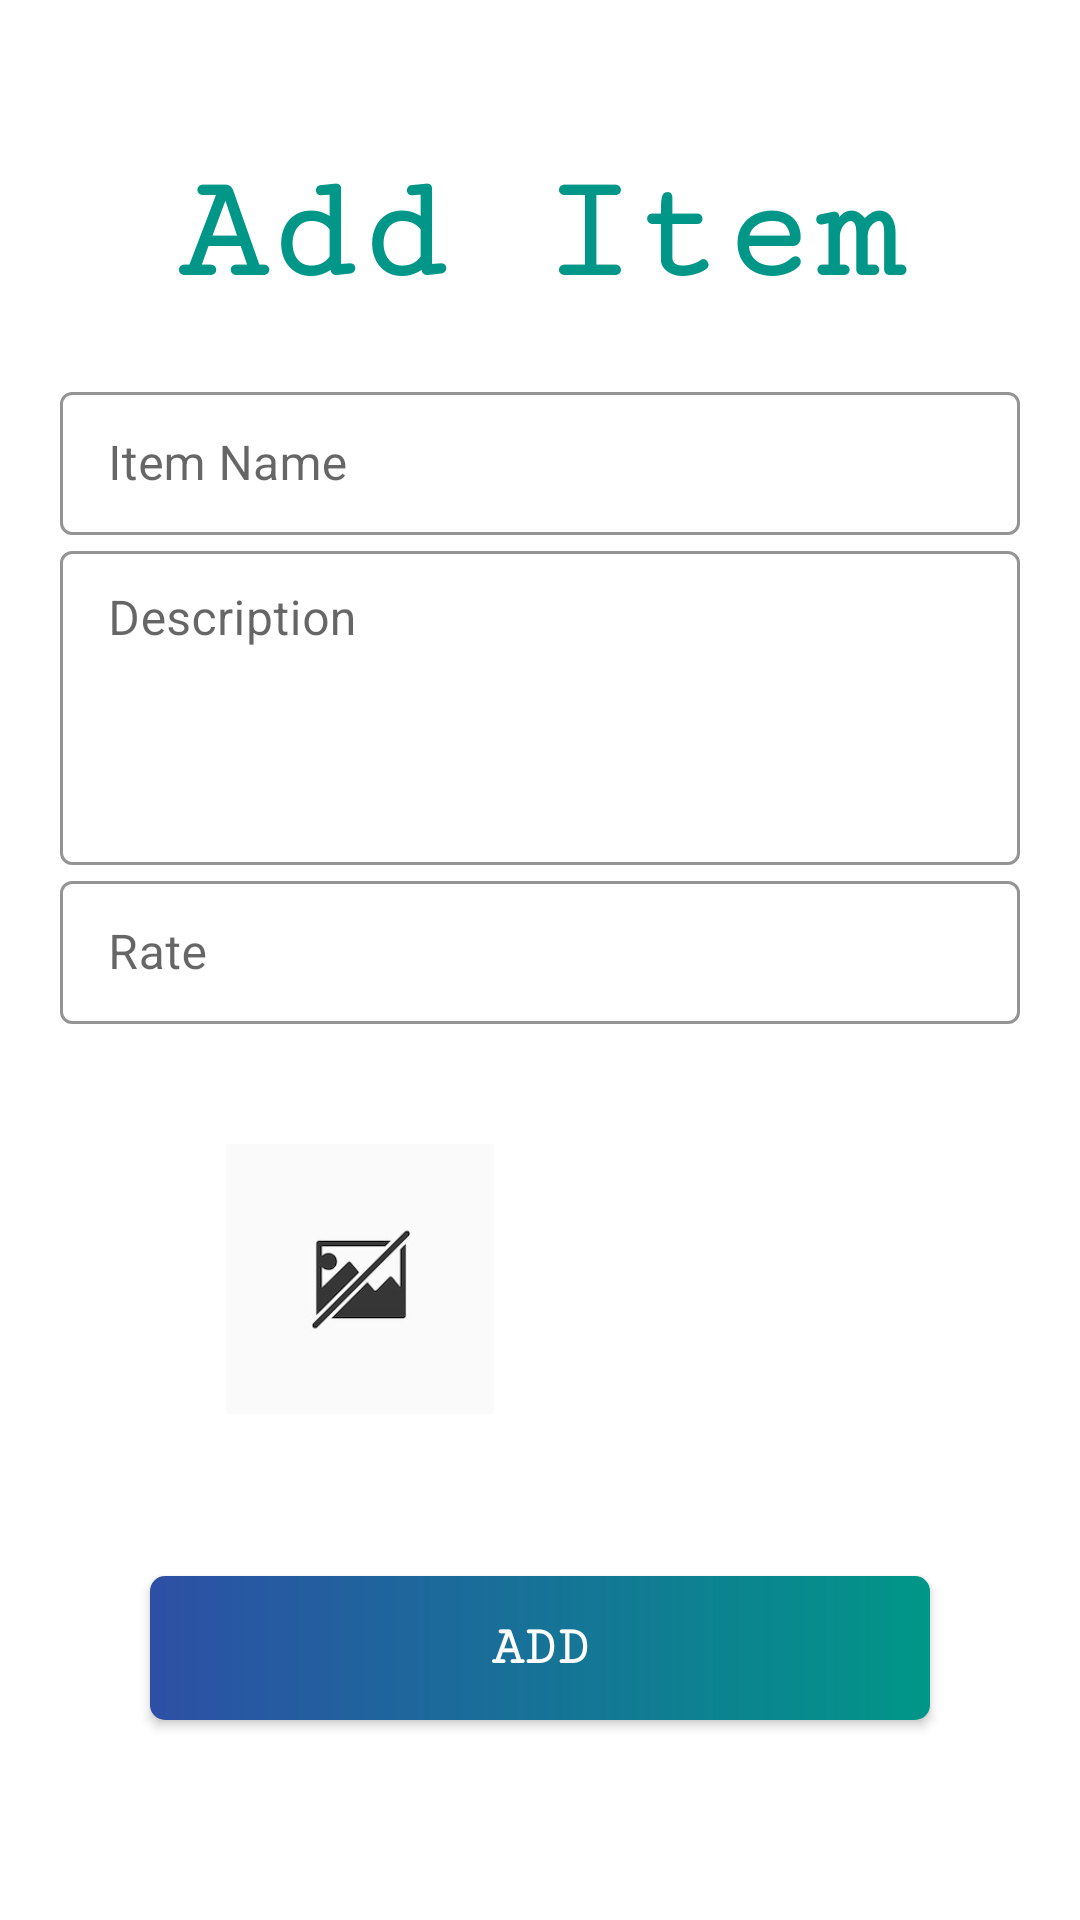

Screen size 1080 x 1920. Icon name, then its center in pixels as [x,y]:
noimg: [361,1279]
